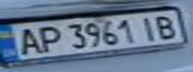1: (115, 16, 139, 44)
3: (63, 20, 87, 50)
6: (100, 18, 121, 46)
9: (81, 19, 103, 48)
A: (9, 25, 45, 56)
B: (148, 12, 181, 41)
I: (136, 13, 163, 42)
P: (33, 24, 63, 54)
